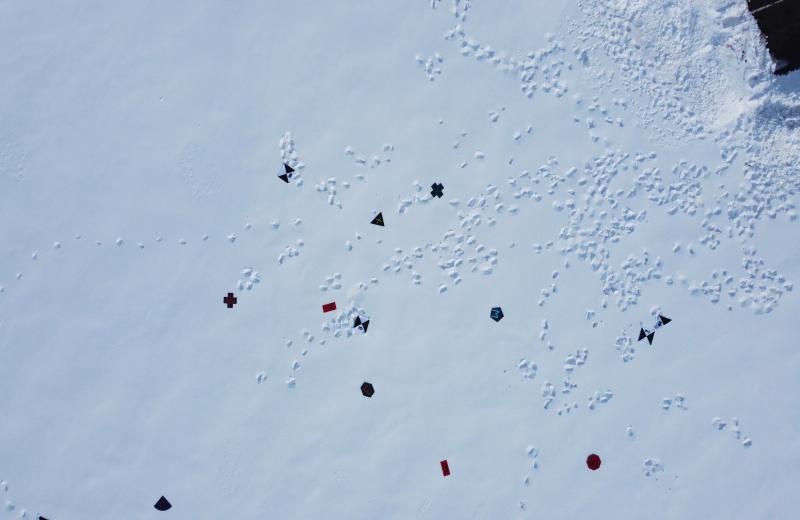Cross: (223, 292, 238, 309), (430, 182, 444, 199)
Hexagon: (360, 382, 376, 398)
Octagon: (586, 453, 602, 472)
Pentagon: (490, 306, 504, 323)
Quarter Circle: (154, 494, 172, 512)
Rectangle: (440, 459, 451, 478), (321, 302, 337, 313)
Triangle: (370, 212, 386, 228)
